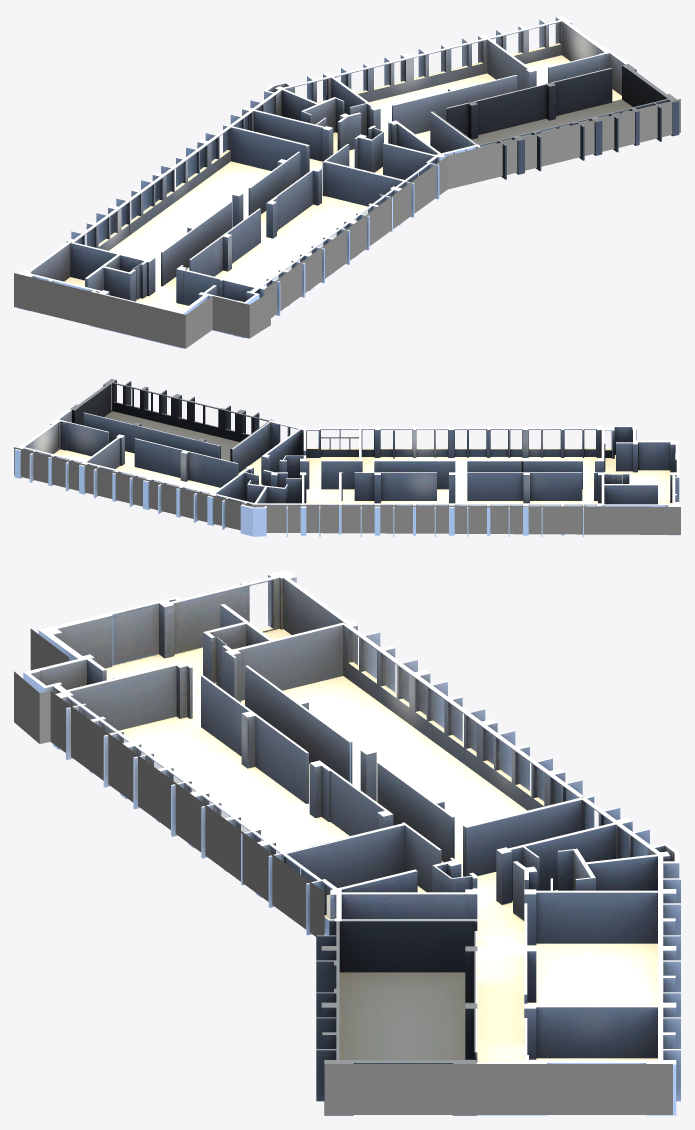
3 views of the same model, one above another, from view 1: azimuth 30°, elevation 25°; view 2: azimuth 150°, elevation 25°; view 3: azimuth 270°, elevation 25° (orthographic). The views are drawn at different scales.
Parts seen in each view (by area): view 1: hd_3floor_wlm_1, hd_3_zoulang1_2, hd_3floor_room07_9, hd_3floor_room05_7, hd_3floor_room01_3, hd_3floor_room03_5, hd_3floor_room09_11, hd_3floor_room02_4, hd_3floor_room08_10, hd_3floor_room04_6, hd_3floor_room06_8; view 2: hd_3floor_wlm_1, hd_3_zoulang1_2, hd_3floor_room07_9, hd_3floor_room03_5, hd_3floor_room05_7, hd_3floor_room01_3, hd_3floor_room02_4, hd_3floor_room09_11, hd_3floor_room04_6, hd_3floor_room06_8, hd_3floor_room08_10; view 3: hd_3_zoulang1_2, hd_3floor_wlm_1, hd_3floor_room07_9, hd_3floor_room05_7, hd_3floor_room01_3, hd_3floor_room03_5, hd_3floor_room02_4, hd_3floor_room09_11, hd_3floor_room04_6, hd_3floor_room08_10, hd_3floor_room06_8.
Part boxes in pixels (x1,y1,x2,y2): hd_3floor_wlm_1: [14, 99, 680, 348]; hd_3_zoulang1_2: [18, 52, 627, 348]; hd_3floor_room07_9: [66, 125, 308, 296]; hd_3floor_room05_7: [176, 161, 414, 315]; hd_3floor_room01_3: [432, 64, 679, 179]; hd_3floor_room03_5: [323, 34, 536, 141]; hd_3floor_room09_11: [250, 75, 372, 148]; hd_3floor_room02_4: [487, 15, 612, 85]; hd_3floor_room08_10: [224, 106, 333, 171]; hd_3floor_room04_6: [325, 134, 439, 199]; hd_3floor_room06_8: [198, 279, 259, 338]; hd_3floor_wlm_1: [14, 447, 680, 534]; hd_3_zoulang1_2: [57, 409, 679, 535]; hd_3floor_room07_9: [340, 472, 604, 536]; hd_3floor_room03_5: [79, 434, 253, 525]; hd_3floor_room05_7: [360, 424, 604, 489]; hd_3floor_room01_3: [70, 378, 272, 461]; hd_3floor_room02_4: [14, 419, 118, 491]; hd_3floor_room09_11: [213, 469, 302, 536]; hd_3floor_room04_6: [300, 425, 360, 489]; hd_3floor_room06_8: [603, 426, 637, 472]; hd_3floor_room08_10: [300, 472, 340, 536]; hd_3_zoulang1_2: [38, 570, 537, 1115]; hd_3floor_wlm_1: [14, 628, 672, 1114]; hd_3floor_room07_9: [225, 622, 592, 876]; hd_3floor_room05_7: [53, 661, 404, 907]; hd_3floor_room01_3: [316, 920, 477, 1115]; hd_3floor_room03_5: [524, 889, 680, 1059]; hd_3floor_room02_4: [523, 1006, 680, 1115]; hd_3floor_room09_11: [510, 822, 680, 903]; hd_3floor_room04_6: [282, 824, 461, 935]; hd_3floor_room08_10: [465, 796, 632, 904]; hd_3floor_room06_8: [23, 654, 116, 693].
Bounding box in the file's own units: 7.53 × 0.376 × 4.26.
Materials: 12 (10 with a texture image).
